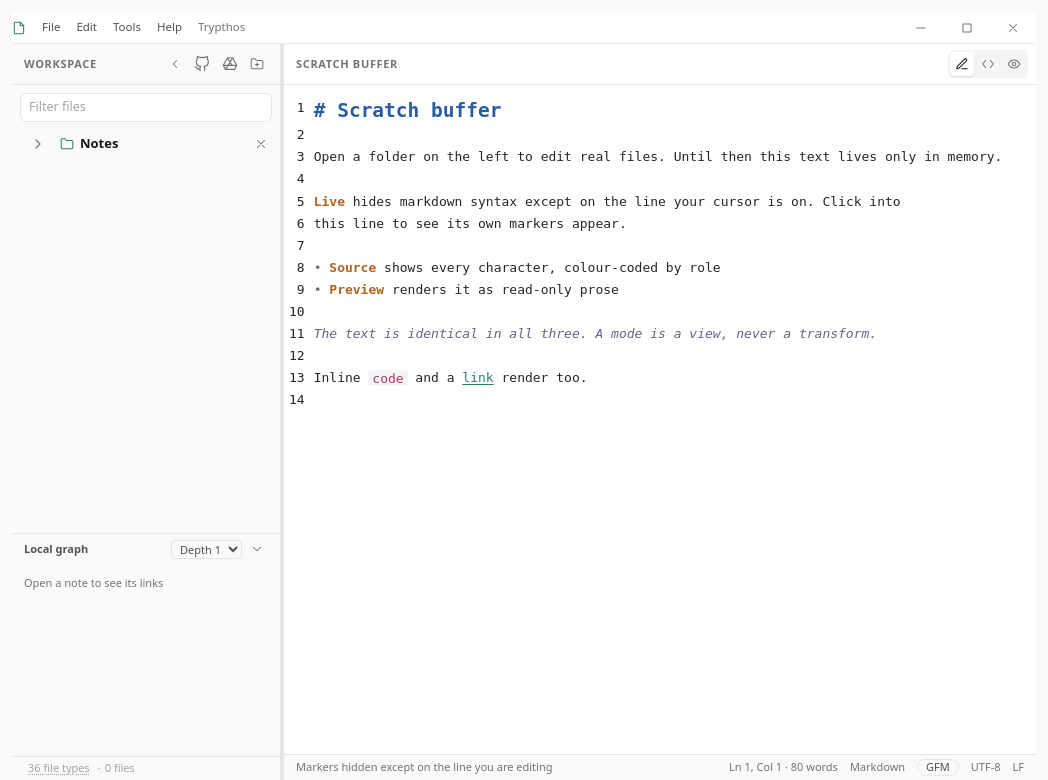
App › open files › filters the browser by searching every open folder
Click the button named "Expand Notes" at (38, 144), box [16,130,60,157]
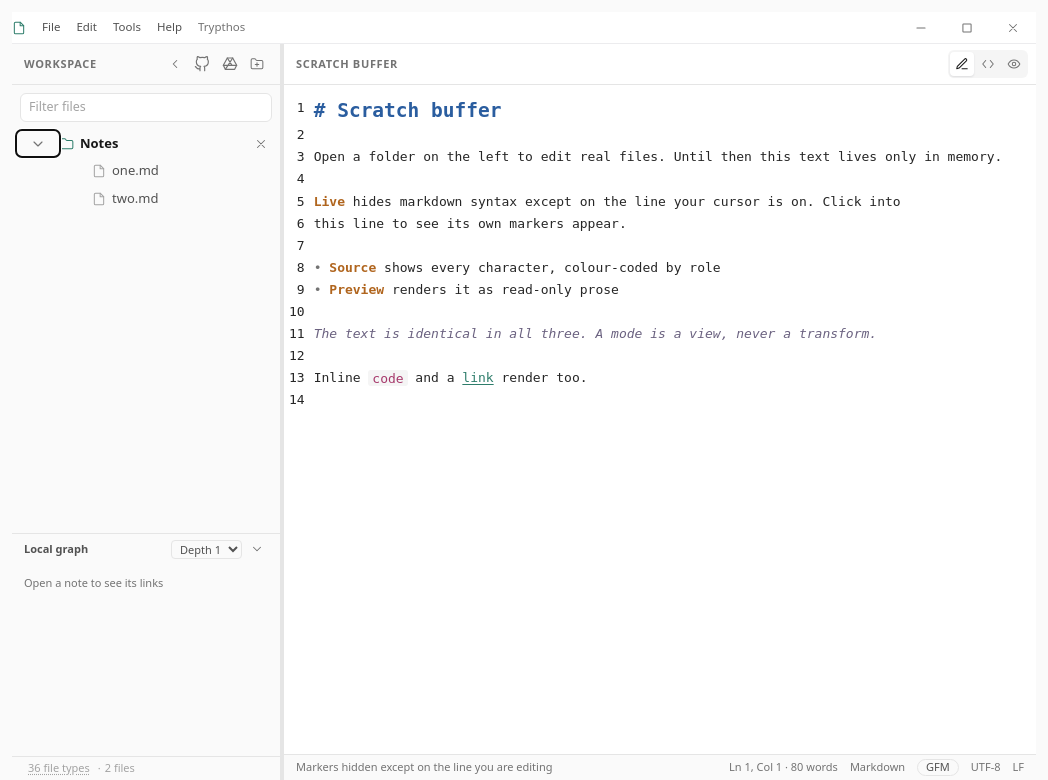
Expected: the button "one.md" is shown, [16,157,276,185]
Type "buried" into the search field labelled "Filter files" at (146, 107), box [20,93,272,122]
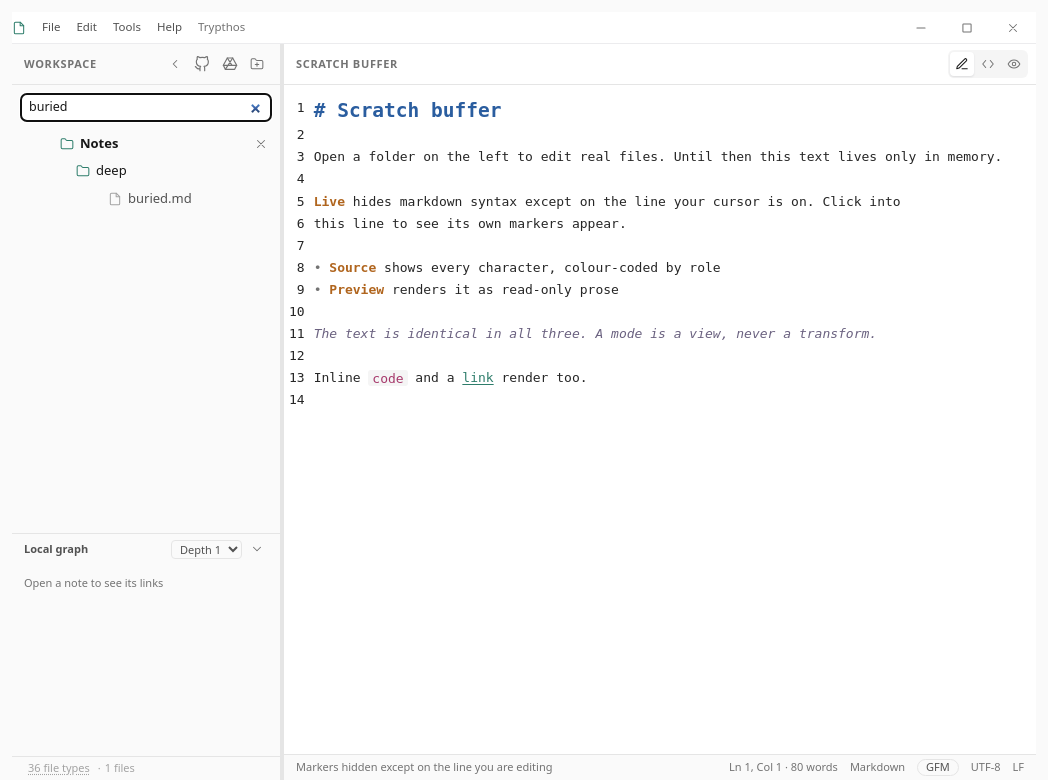
Expected: the button "buried.md" is shown, [16,185,276,212]
Expected: the text "deep" is shown, [96,161,127,181]
Expected: the button "one.md" is gone
